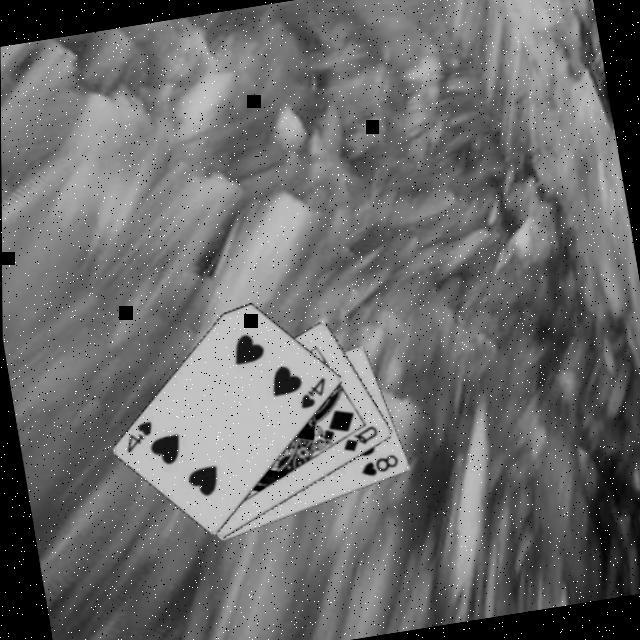4H: (291, 373, 330, 412), (117, 417, 156, 456)
8H: (353, 450, 400, 481)
QD: (335, 422, 381, 456)
